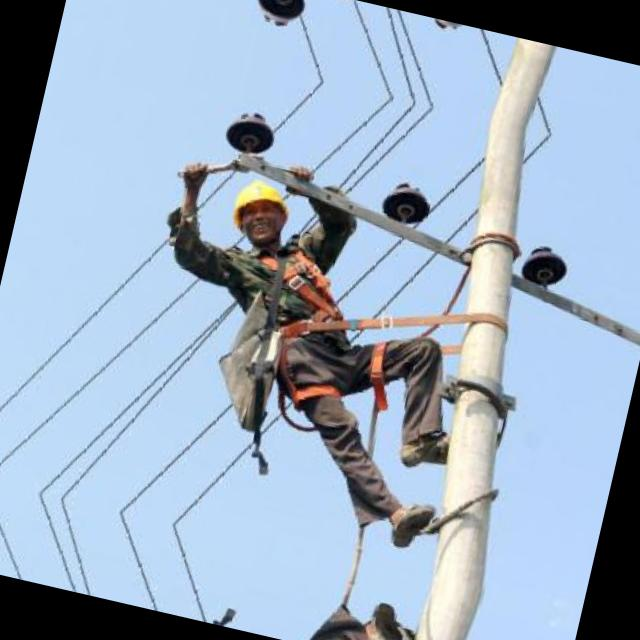helmet: (220, 167, 298, 255)
